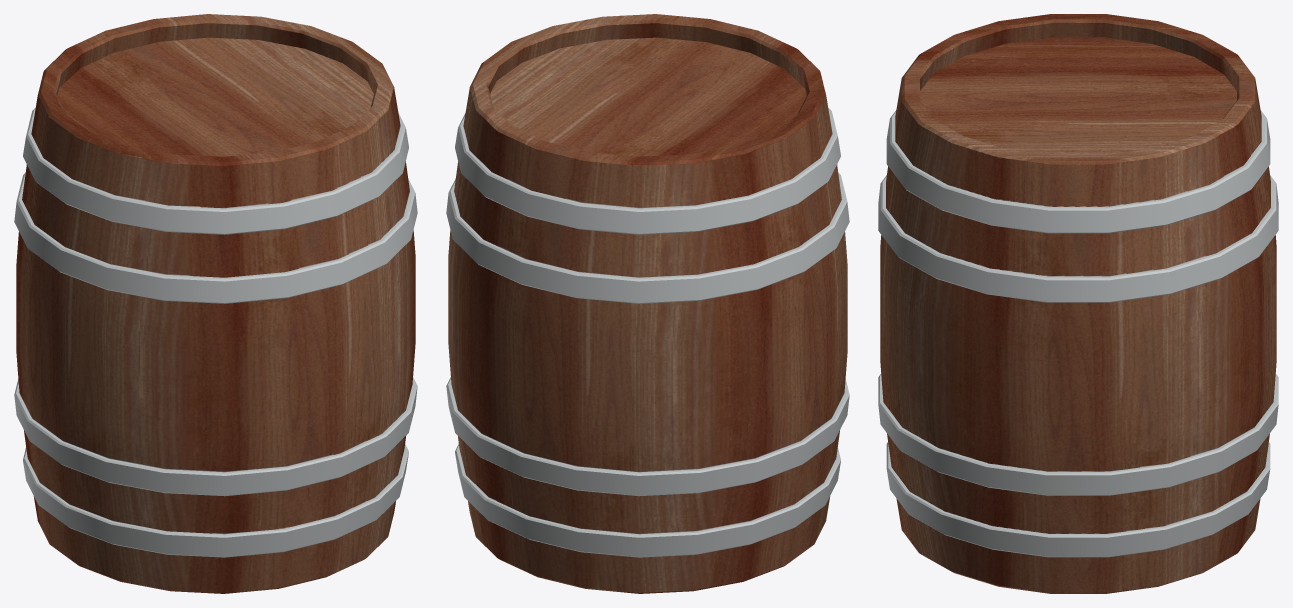
The model's file is runtime-post-barrel.glb.
3 views of the same model, side by side, from view 1: azimuth 30°, elevation 25°; view 2: azimuth 150°, elevation 25°; view 3: azimuth 270°, elevation 25° (orthographic).
Parts seen in each view (by area): view 1: barrel_low; view 2: barrel_low; view 3: barrel_low.
Boxes of the visible parts, x1,y1,x2,y2 form: barrel_low: [14, 14, 417, 593]; barrel_low: [446, 14, 849, 593]; barrel_low: [878, 14, 1278, 593].
Bounding box in the file's own units: 0.1224 × 0.1461 × 0.1224.
1 material, 1 textured.
